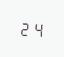four: (31, 19, 42, 37)
two: (19, 19, 30, 36)
